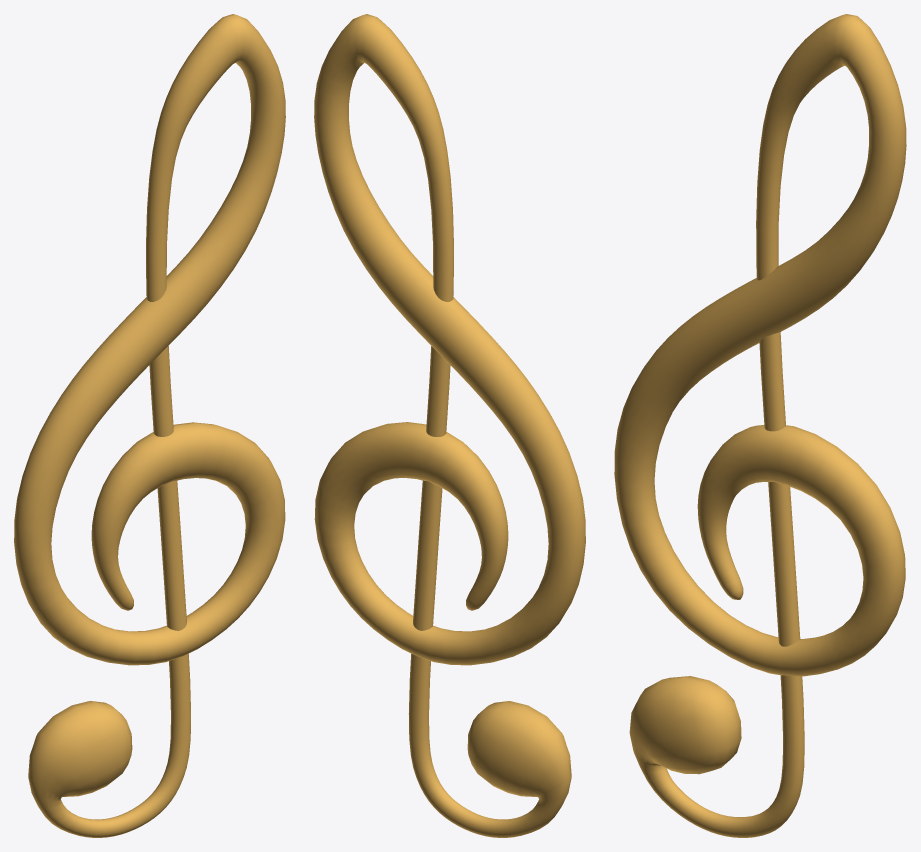
The model's file is clef.fbx.
3 views of the same model, side by side, from view 1: azimuth 30°, elevation 25°; view 2: azimuth 150°, elevation 25°; view 3: azimuth 330°, elevation 25° (orthographic). The views are drawn at different scales.
Parts seen in each view (by area): view 1: Line002; view 2: Line002; view 3: Line002.
Boxes of the visible parts, x1=… form: Line002: x1=14, y1=14, x2=285, y2=837; Line002: x1=314, y1=14, x2=585, y2=837; Line002: x1=614, y1=14, x2=906, y2=837.
Bounding box in the file's own units: 121 × 340 × 25.79.
